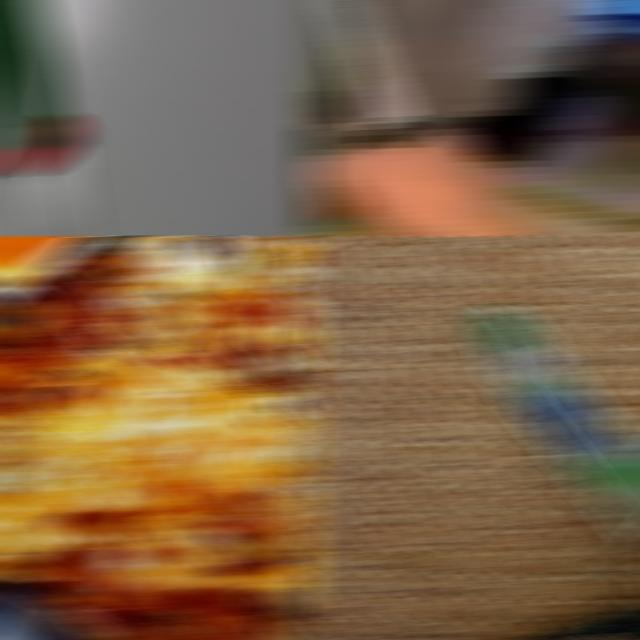Knife: (0, 0, 95, 236)
Knife_Handle: (298, 0, 495, 236)
